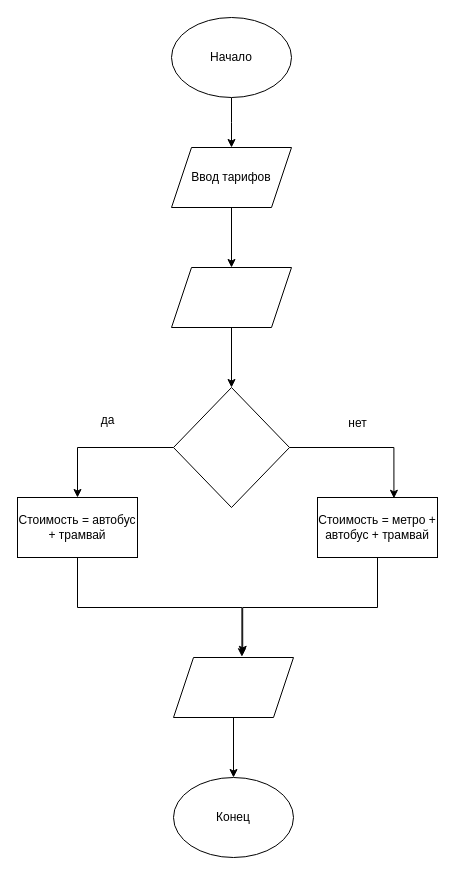
This 455x875 diagram has some shape labels left out. Here are the shapes that lost their labels. From the top down, the centre of each, then its label:
At point 231,297: "Ввод выбора маршрута".
At point 231,447: "Маршрут = 1?".
At point 233,687: "Вывод стоимости".
